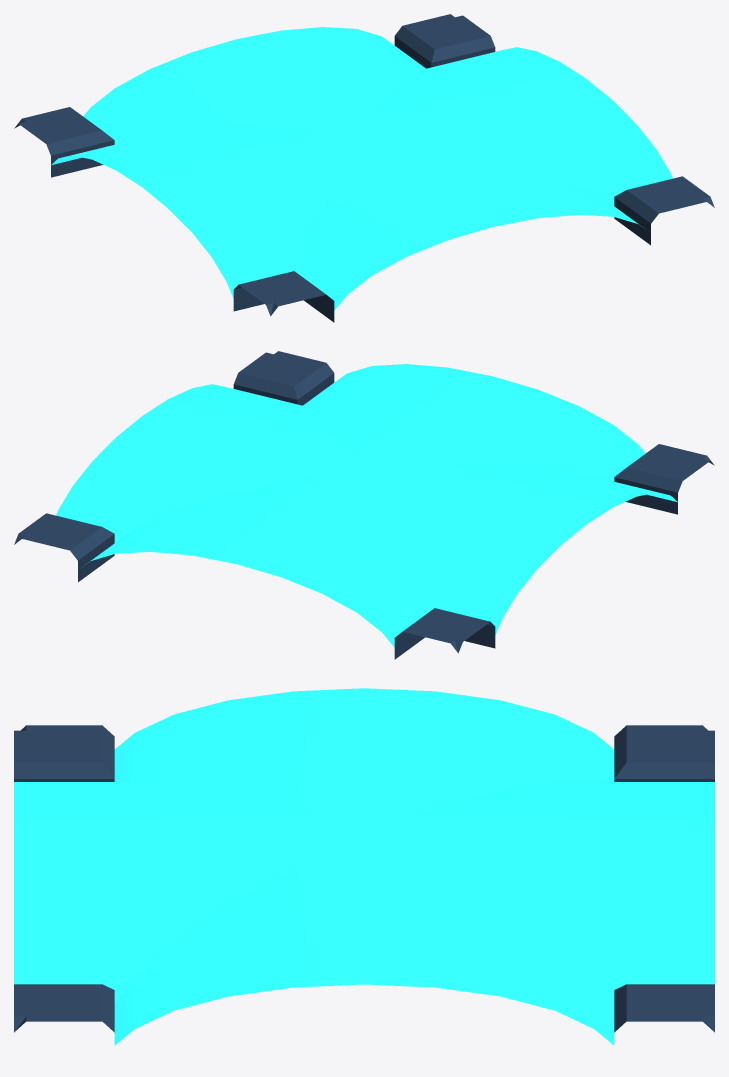
Rendered from Light_Trim_01_SquareShortCrossX.glb.
3 renders of one model, top to bottom at view 1: azimuth 30°, elevation 25°; view 2: azimuth 150°, elevation 25°; view 3: azimuth 270°, elevation 25°, orthographic. The views are drawn at different scales.
Visible parts, largest first — view 1: Light_Trim_01_SquareShortCrossX.001; view 2: Light_Trim_01_SquareShortCrossX.001; view 3: Light_Trim_01_SquareShortCrossX.001.
Boxes of the visible parts, x1=… form: Light_Trim_01_SquareShortCrossX.001: x1=14, y1=14, x2=714, y2=322; Light_Trim_01_SquareShortCrossX.001: x1=14, y1=351, x2=714, y2=659; Light_Trim_01_SquareShortCrossX.001: x1=14, y1=688, x2=714, y2=1045.
Bounding box in the file's own units: 0.1 × 0.0123 × 0.1.
